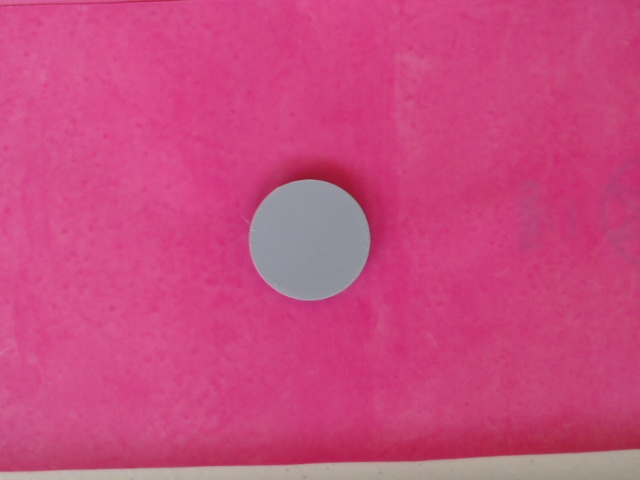NonDefective: (248, 177, 376, 306)
